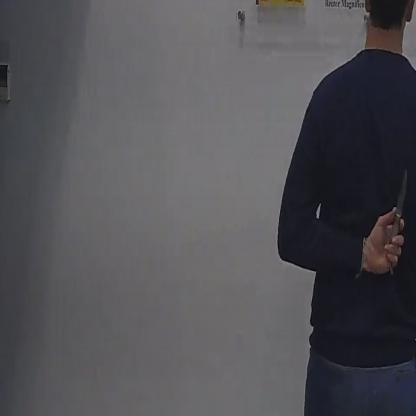knife: (378, 160, 410, 280)
